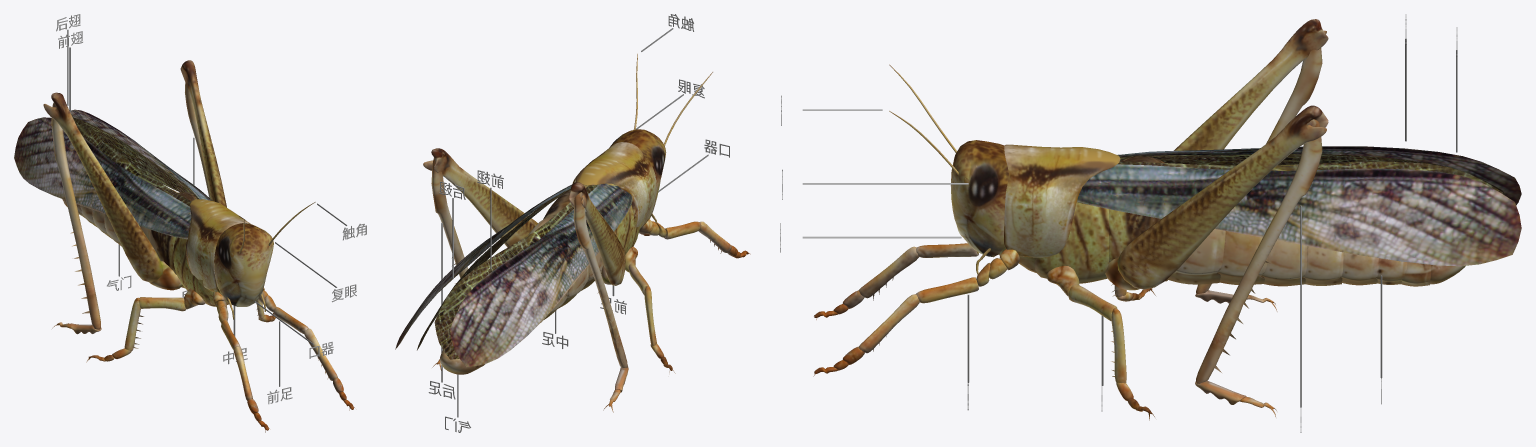
Rendered from huangchong.fbx.
3 renders of one model, left to right at view 1: azimuth 30°, elevation 25°; view 2: azimuth 150°, elevation 25°; view 3: azimuth 270°, elevation 25°, orthographic. The views are drawn at different scales.
Parts seen in each view (by area): view 1: xiong, tou, fu; view 2: xiong, fu, tou; view 3: xiong, fu, tou.
Part boxes in pixels (x1,y1,x2,y2): xiong: [14, 60, 354, 432]; tou: [214, 202, 315, 319]; fu: [62, 189, 228, 306]; xiong: [395, 142, 750, 412]; fu: [440, 183, 642, 374]; tou: [609, 53, 712, 222]; xiong: [813, 19, 1521, 420]; fu: [998, 156, 1465, 286]; tou: [889, 64, 1008, 274].
Size of the model in its own units: 9.96 by 12.6 by 24.08.
